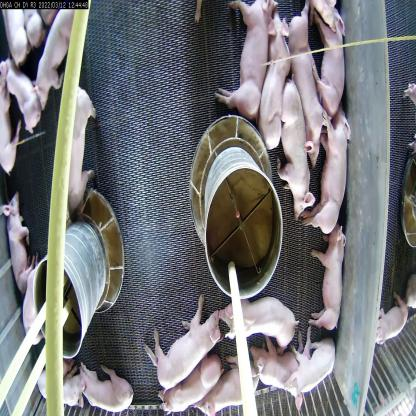Pig: (306, 85, 360, 230), (288, 8, 342, 145), (215, 278, 303, 356), (148, 296, 228, 377), (58, 75, 107, 204), (218, 0, 271, 111), (278, 63, 313, 211), (265, 20, 299, 164), (316, 24, 362, 127), (193, 359, 277, 415), (310, 223, 351, 332), (148, 355, 225, 408), (26, 8, 74, 92), (233, 342, 314, 387), (292, 333, 342, 405), (1, 193, 34, 293), (0, 66, 38, 123)
